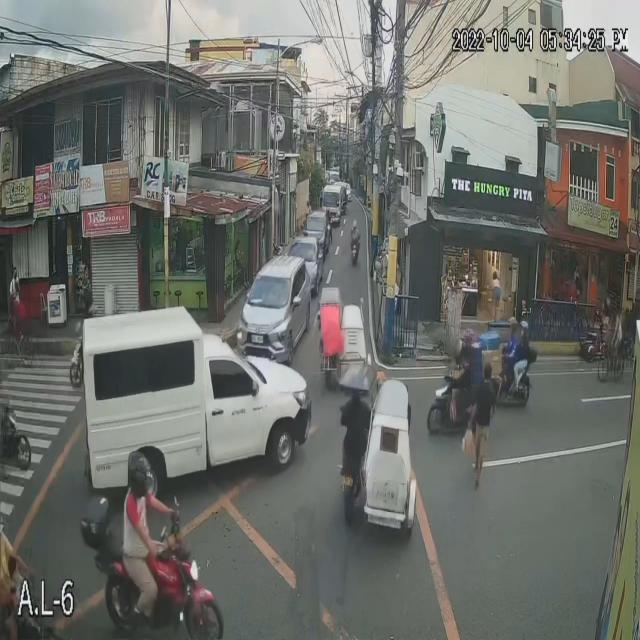Full-Faced: (126, 447, 153, 497), (456, 327, 474, 353), (505, 315, 517, 339), (351, 217, 360, 225)
Half-Faced: (517, 316, 529, 338)
